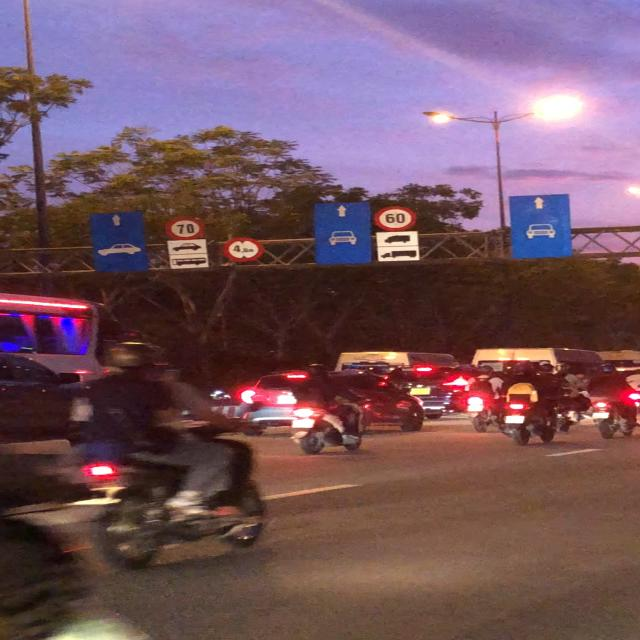Bien bao han che chieu cao: (223, 237, 268, 264)
Bien bao toc do toi da cho phep: (371, 204, 420, 232), (163, 216, 210, 240)
